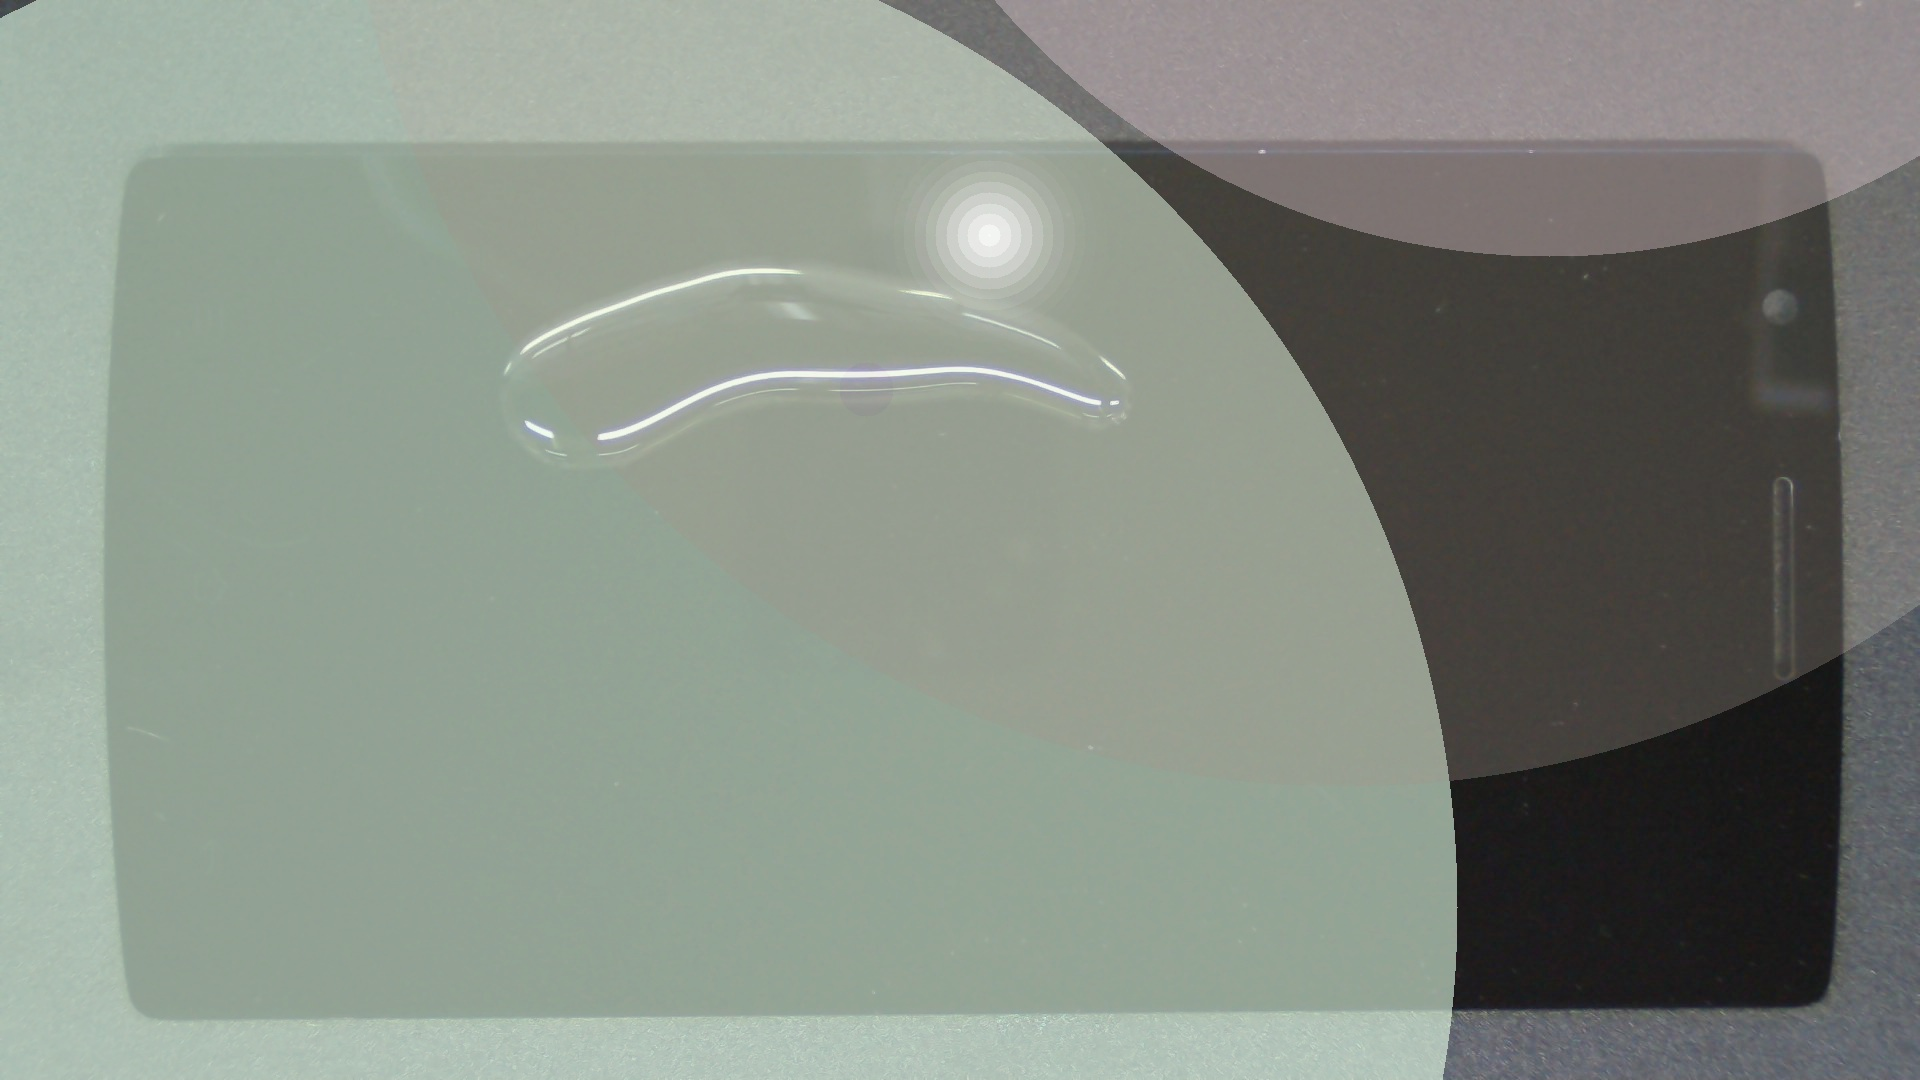oil: (394, 127, 1180, 382)
